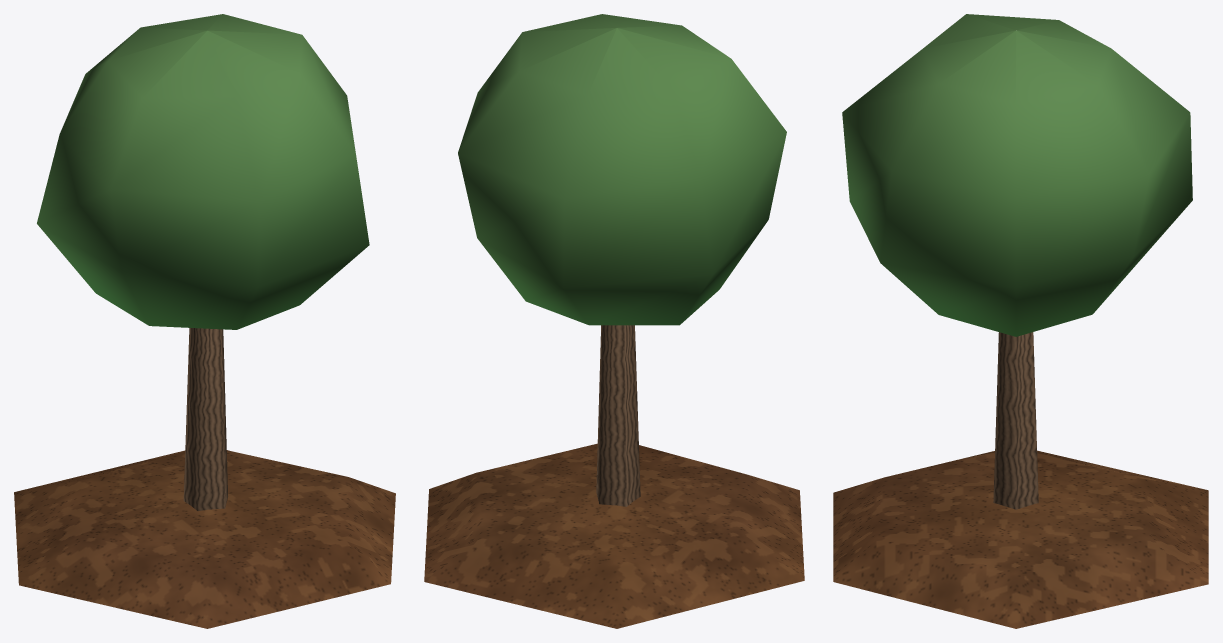
Rendered from plant-mango-1-far.glb.
The picture shows the model from 3 angles, left to right: view 1: azimuth 30°, elevation 25°; view 2: azimuth 150°, elevation 25°; view 3: azimuth 270°, elevation 25°; orthographic projection.
Visible parts, largest first — view 1: plant-mango-1-far; view 2: plant-mango-1-far; view 3: plant-mango-1-far.
Part boxes in pixels (box(x1,y1,x2,y2)): plant-mango-1-far: box(14, 14, 395, 628); plant-mango-1-far: box(424, 14, 804, 628); plant-mango-1-far: box(833, 14, 1208, 628).
Size of the model in its own units: 1 by 1.29 by 0.866.
3 materials, 2 textured.
